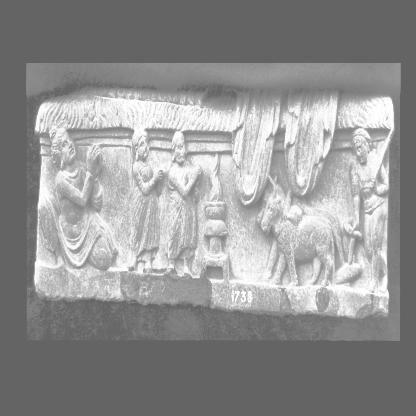buddha-sitting: (38, 127, 117, 270)
